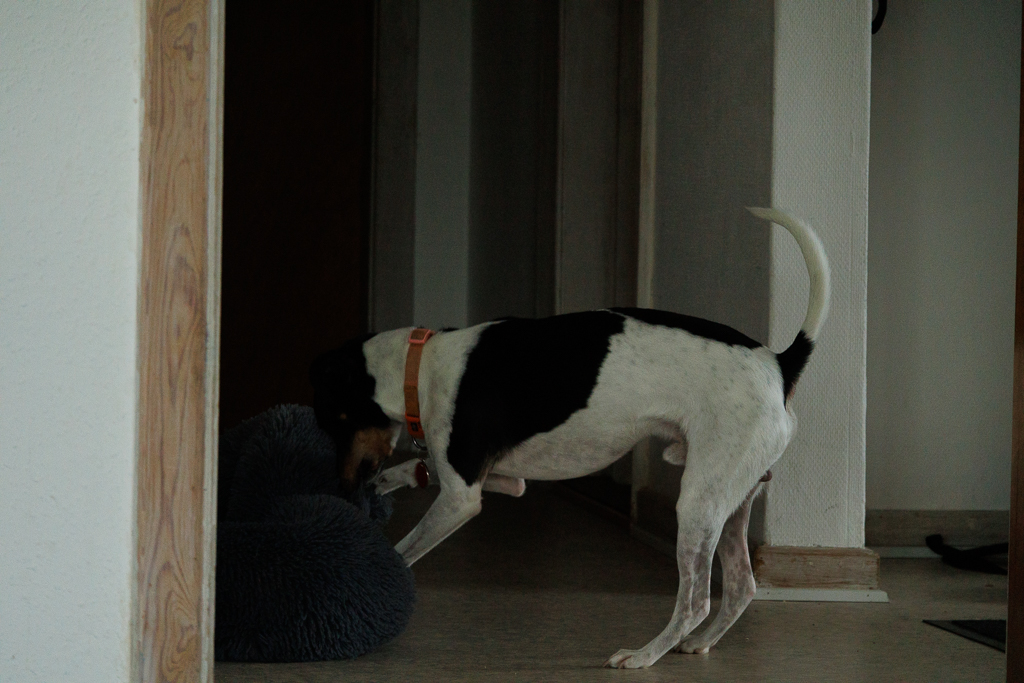Dog: (285, 198, 844, 675)
